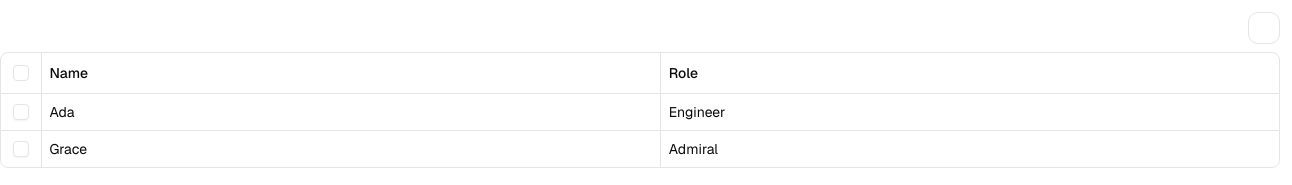
Scenario: DataGrid › editing › Escape resets the live buffer and returns focus to the gridcell
Click the 2nd cell at x=351, y=112, box [41,93,660,130]
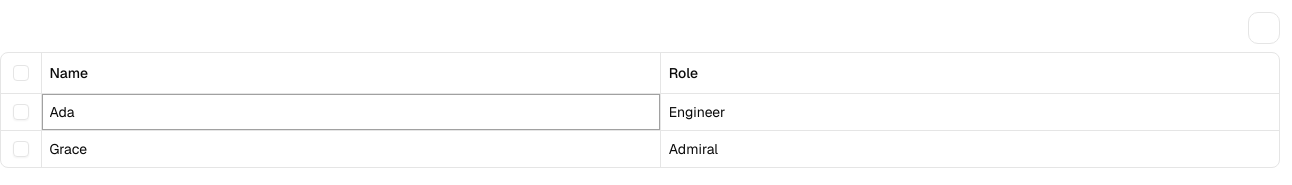
Replace the text in the 1st field with "Discard me" at x=351, y=112, box [42,94,660,130]
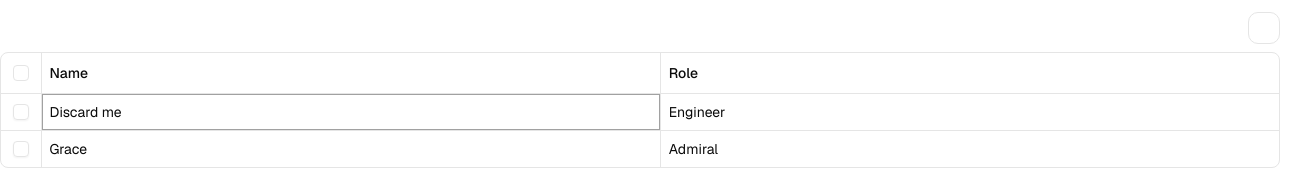
Press Escape
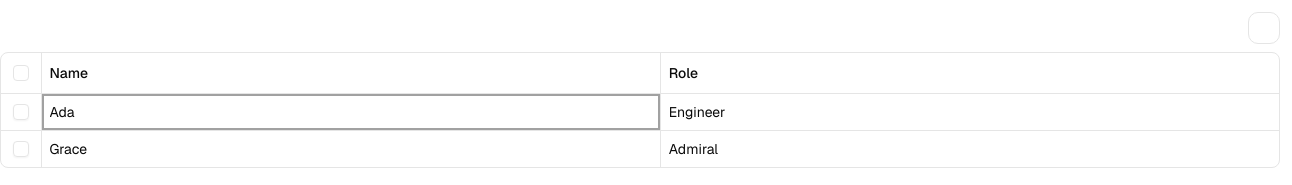
Check: the 1st field holds "Ada", box [42,94,660,130]
